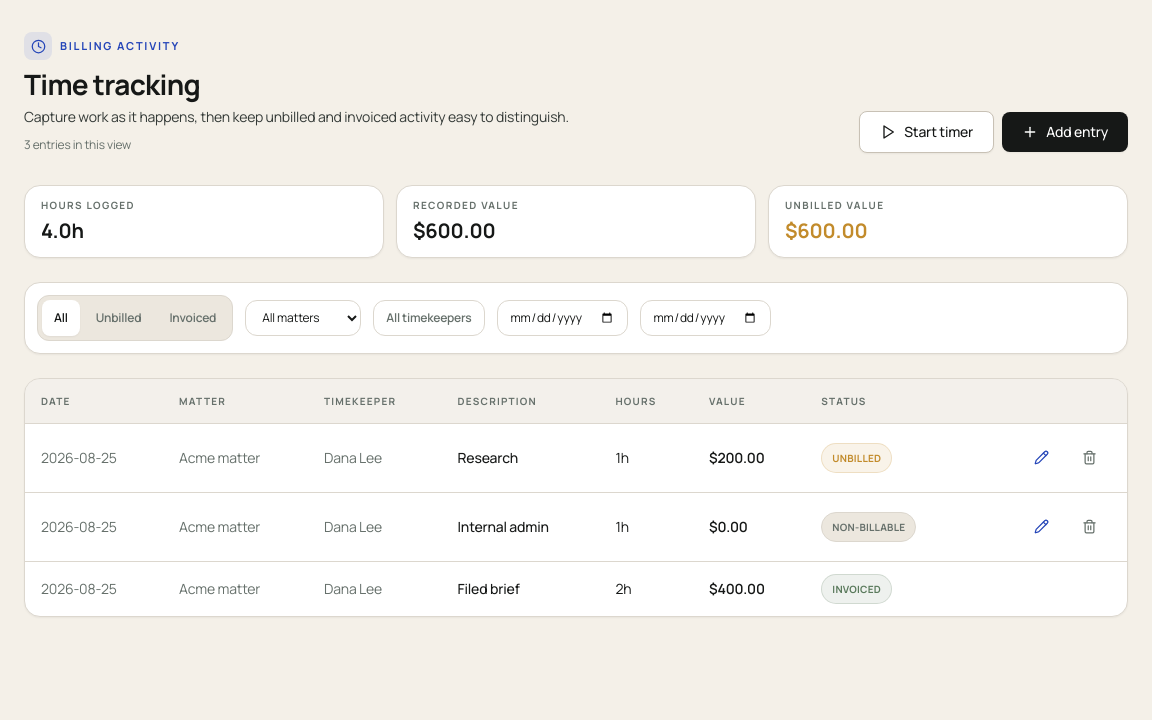
Test case: TimeTrackingPage billing controls › dates a new entry by the local calendar, not UTC
Click the button "Add entry" at (1065,132), box x1=1002 y1=112 x2=1128 y2=152
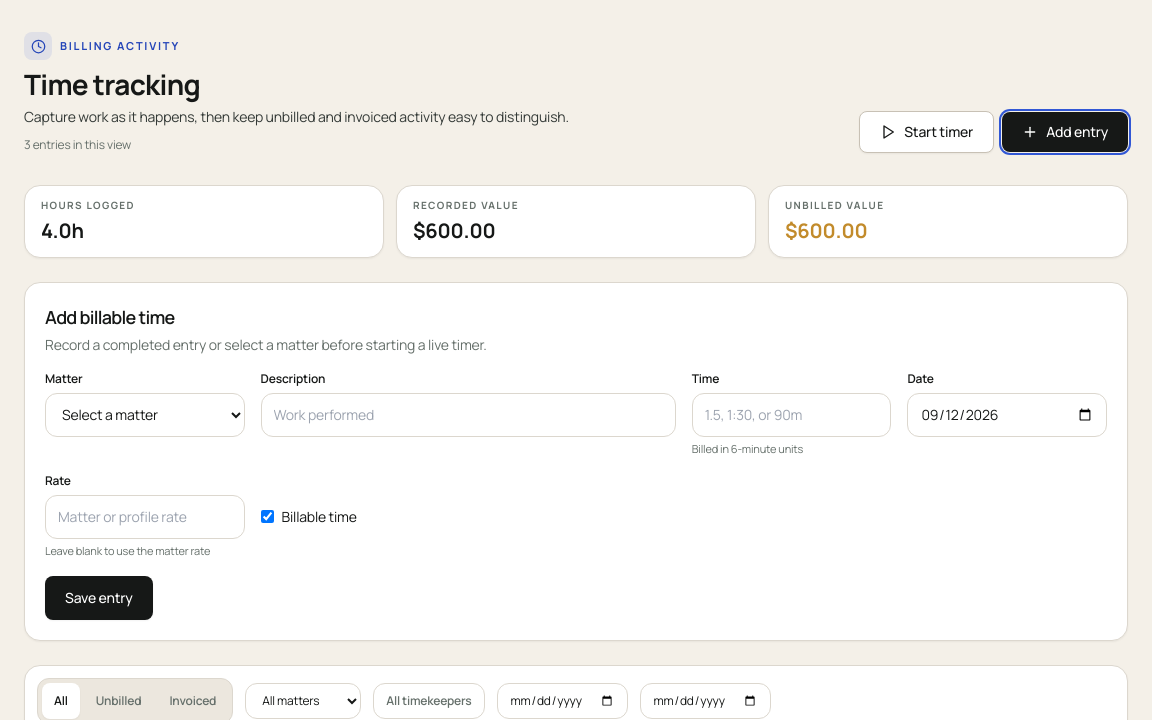
Check: the date field labelled "Date" holds "2026-09-12", box x1=907 y1=393 x2=1107 y2=437
